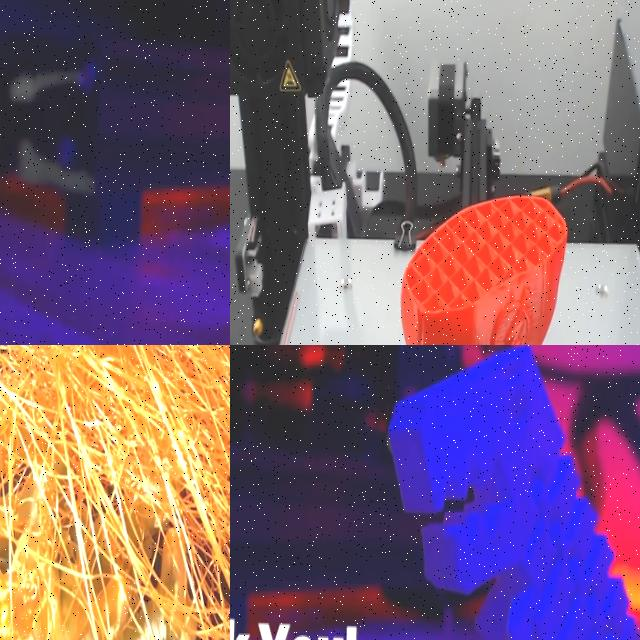spaghetti: (0, 345, 230, 640)
